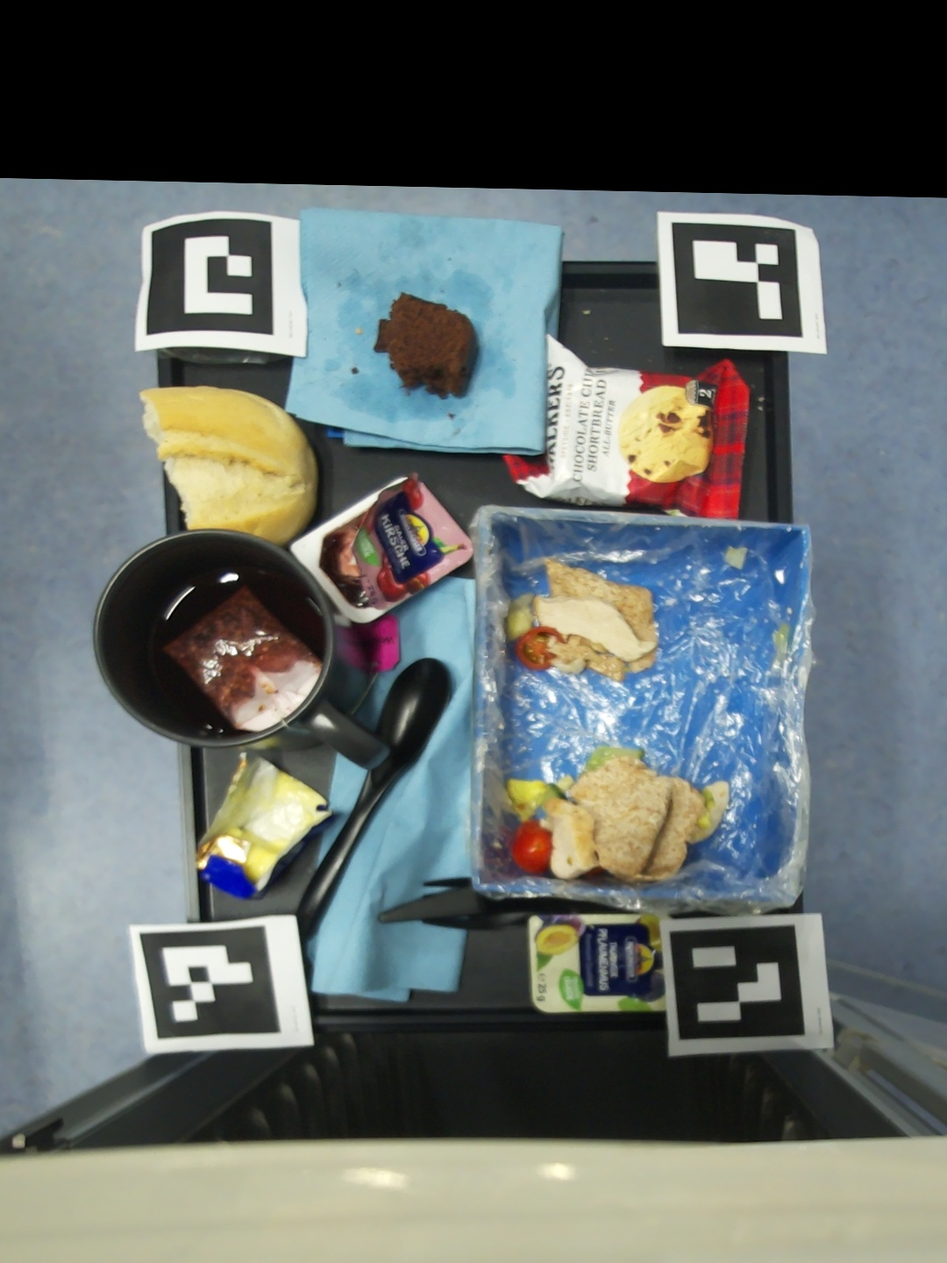bread_roll: (138, 385, 317, 547)
brownie: (374, 292, 479, 399)
butter: (195, 751, 341, 900)
cherry_jam: (289, 471, 473, 623)
cookie: (502, 334, 750, 519)
plum_jam: (528, 913, 666, 1012)
tea_cup: (94, 530, 391, 772)
wrap_half_1: (508, 558, 657, 681), (776, 623, 791, 656), (725, 548, 747, 569)
wrap_half_2: (506, 746, 729, 883)
